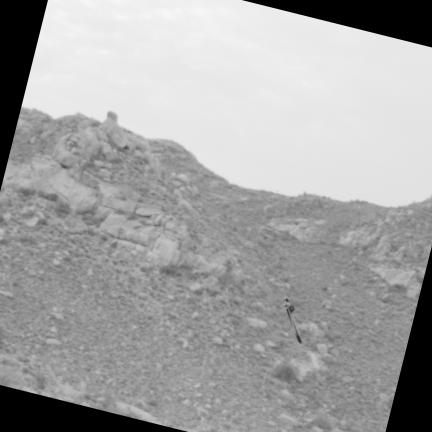Shahed: (283, 298, 301, 343)
